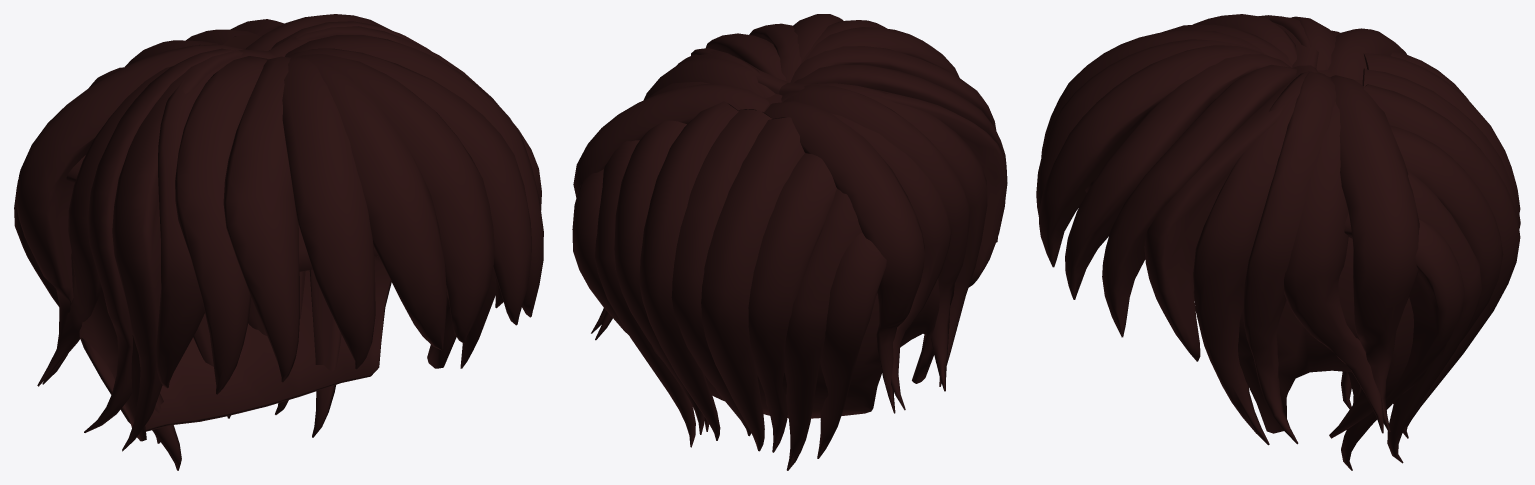
File: hair-6-e04d10b0.glb
3 views of the same model, side by side, from view 1: azimuth 30°, elevation 25°; view 2: azimuth 150°, elevation 25°; view 3: azimuth 270°, elevation 25° (orthographic). The views are drawn at different scales.
Parts seen in each view (by area): view 1: hair_6.001; view 2: hair_6.001; view 3: hair_6.001.
Part boxes in pixels (x1=…): hair_6.001: x1=14, y1=14, x2=543, y2=470; hair_6.001: x1=572, y1=14, x2=1007, y2=470; hair_6.001: x1=1036, y1=14, x2=1520, y2=470.
Size of the model in its own units: 1.82 by 1.87 by 2.06.
